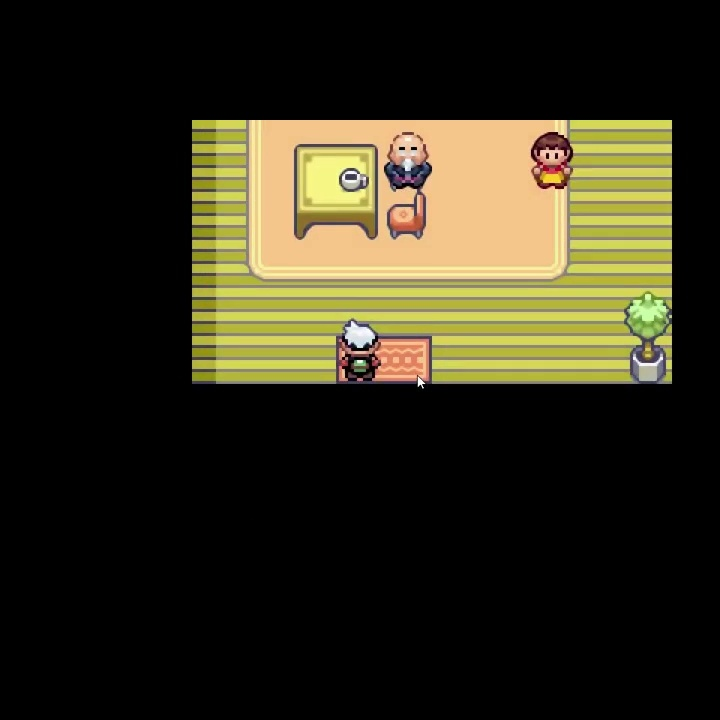agent: (335, 318, 384, 382)
exit: (334, 332, 435, 444)
npc: (382, 130, 435, 191), (529, 131, 575, 193)
